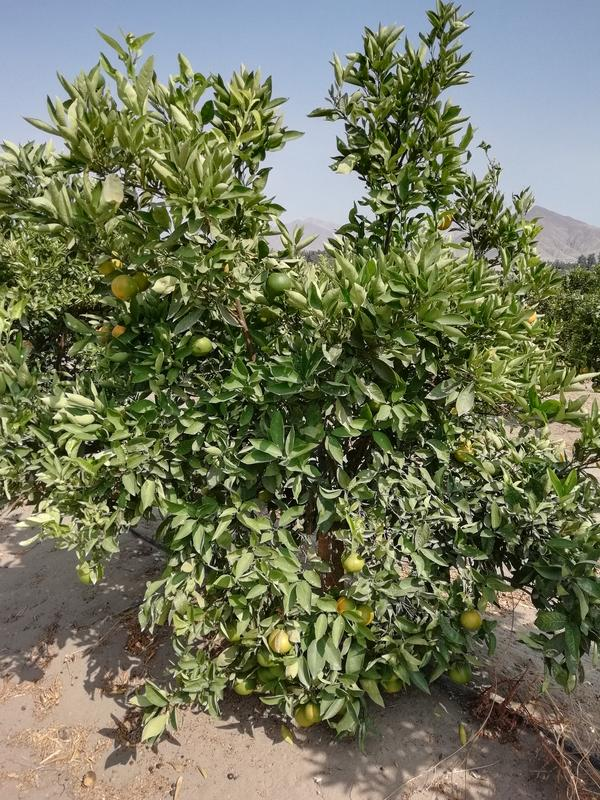mandarina verde: (110, 274, 139, 300), (265, 273, 292, 295), (341, 549, 365, 573), (268, 628, 291, 653), (187, 335, 213, 357), (448, 661, 471, 684), (462, 610, 481, 630), (305, 702, 323, 723)
